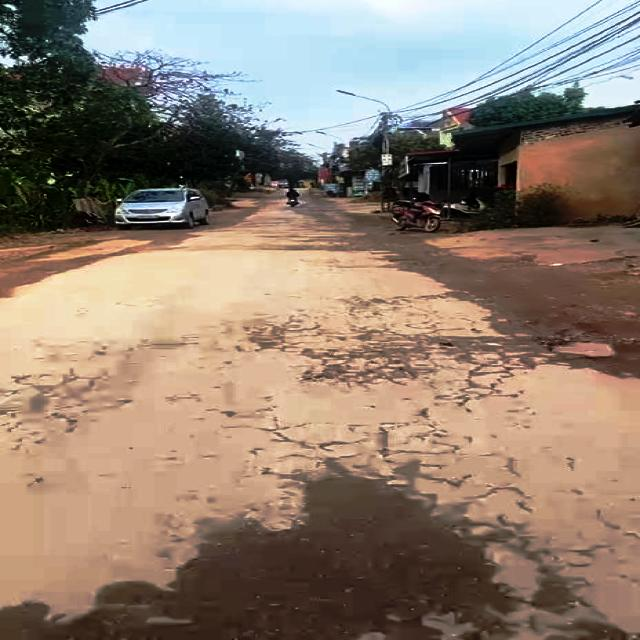pothole: (0, 468, 619, 640), (542, 322, 640, 378)
